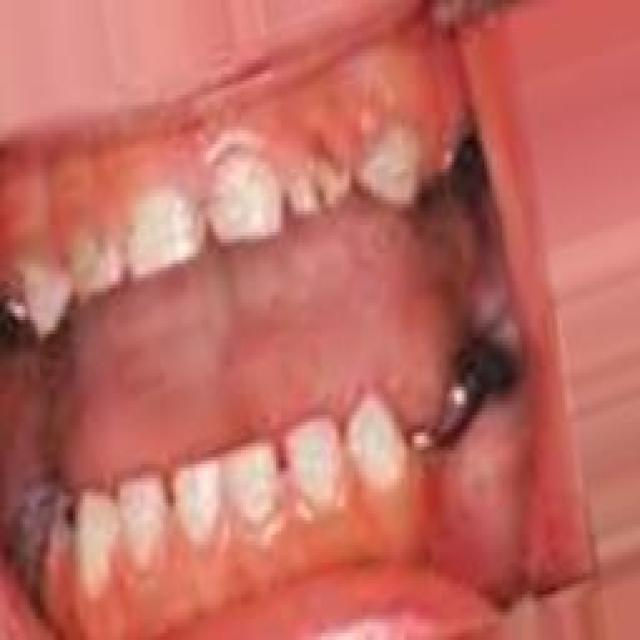caries: (279, 131, 352, 222)
